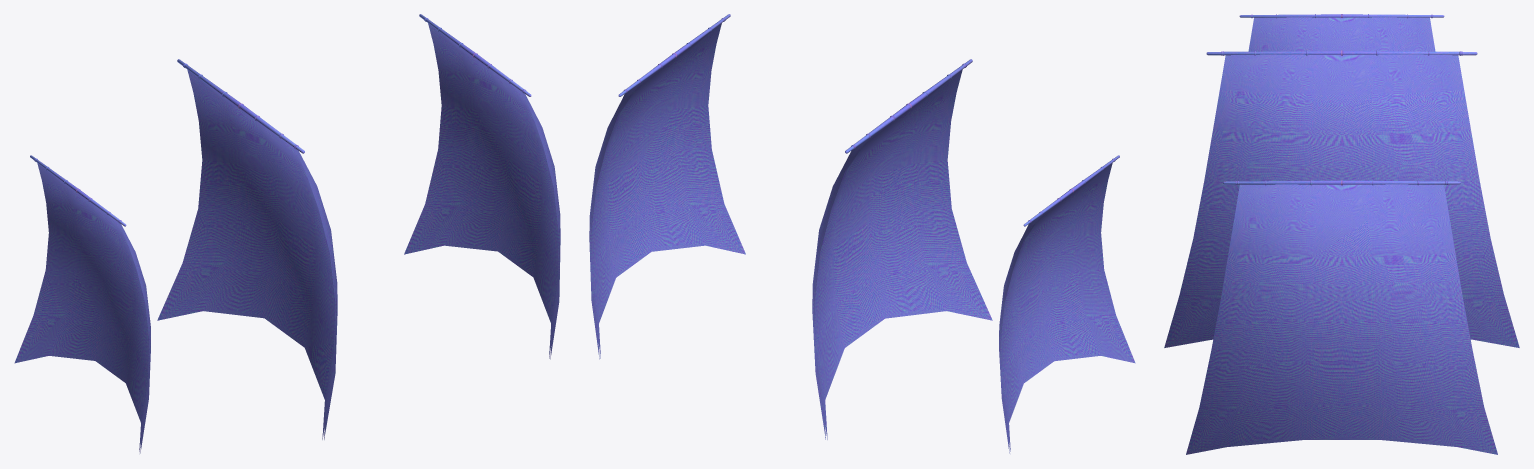
The model's file is statek_lod_zagle_lvl_01.fbx.
The picture shows the model from 3 angles, left to right: view 1: azimuth 30°, elevation 25°; view 2: azimuth 150°, elevation 25°; view 3: azimuth 270°, elevation 25°; orthographic projection. The views are drawn at different scales.
Parts seen in each view (by area): view 1: statek_lod_zagle_lvl_01; view 2: statek_lod_zagle_lvl_01; view 3: statek_lod_zagle_lvl_01.
Boxes of the visible parts, <box> form: statek_lod_zagle_lvl_01: <box>14,14,560,453</box>; statek_lod_zagle_lvl_01: <box>589,14,1135,453</box>; statek_lod_zagle_lvl_01: <box>1164,14,1519,454</box>.
Bounding box in the file's own units: 4677 × 2754 × 2982.
Materials: 1 (1 with a texture image).
